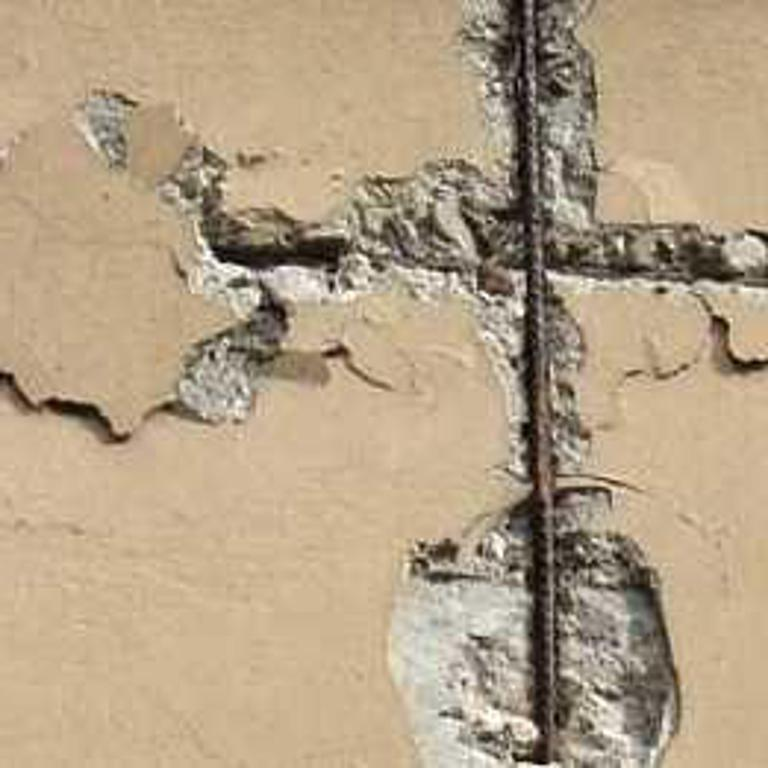damage: (0, 0, 768, 768)
